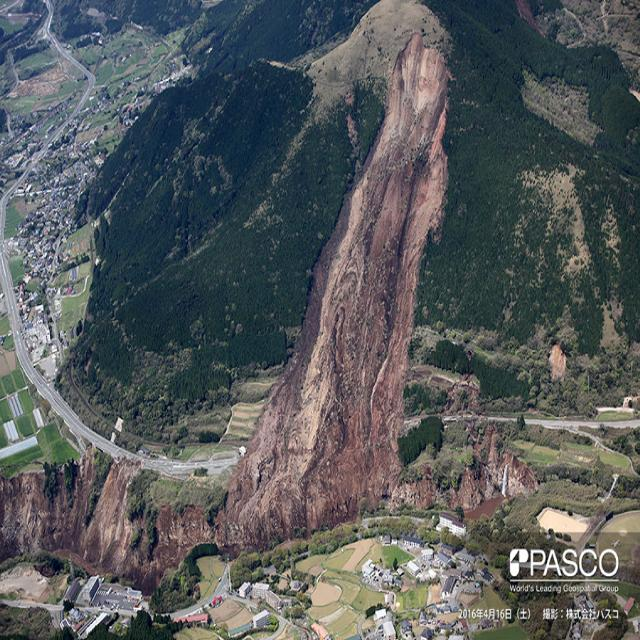Debris-flow: (0, 0, 640, 608), (521, 0, 639, 89), (520, 69, 601, 150), (540, 167, 580, 240)
